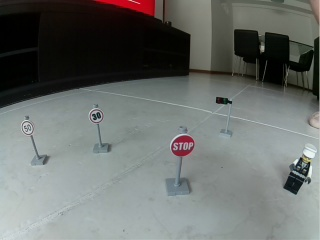Green Traffic Light: (215, 97, 233, 137)
Person: (283, 141, 318, 196)
Speed Limit 30: (88, 109, 103, 123)
Speed Limit 50: (20, 121, 35, 136)
Stop Sign: (170, 134, 195, 157)
